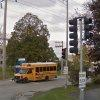Bus: (16, 56, 60, 83)
